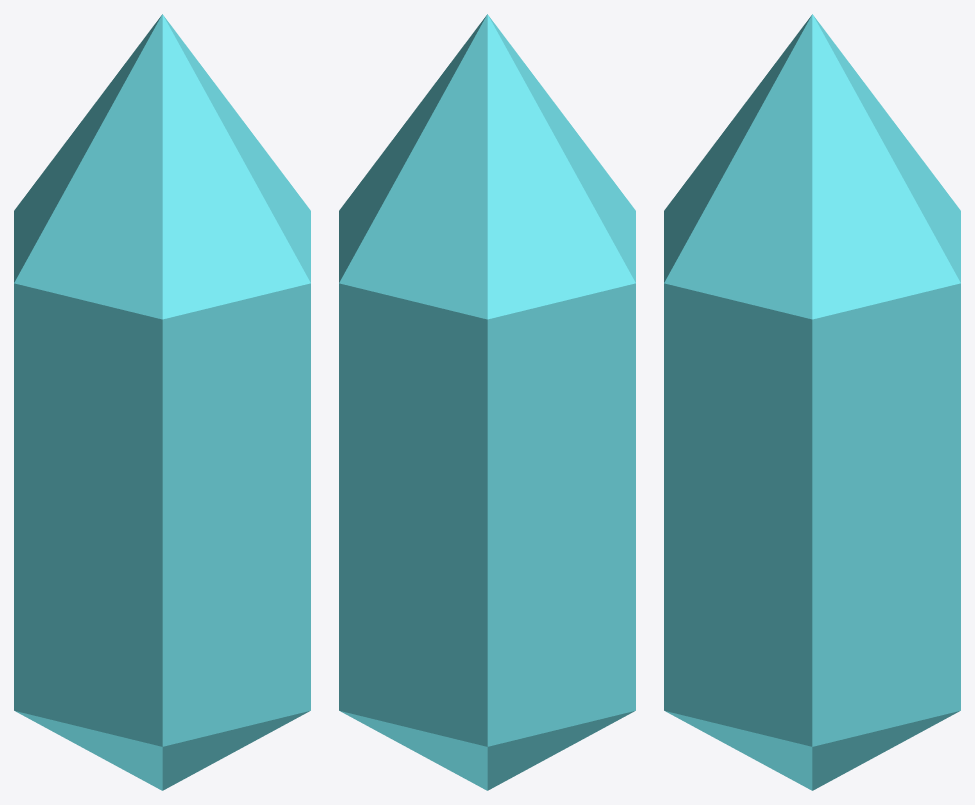
The model's file is CristalLluvia.fbx.
3 views of the same model, side by side, from view 1: azimuth 30°, elevation 25°; view 2: azimuth 150°, elevation 25°; view 3: azimuth 270°, elevation 25° (orthographic).
Parts seen in each view (by area): view 1: CristalLluvia; view 2: CristalLluvia; view 3: CristalLluvia.
Boxes of the visible parts, x1,y1,x2,y2 form: CristalLluvia: (14, 14, 310, 790); CristalLluvia: (339, 14, 635, 790); CristalLluvia: (664, 14, 960, 790).
Bounding box in the file's own units: 0.2688 × 0.672 × 0.2328.
